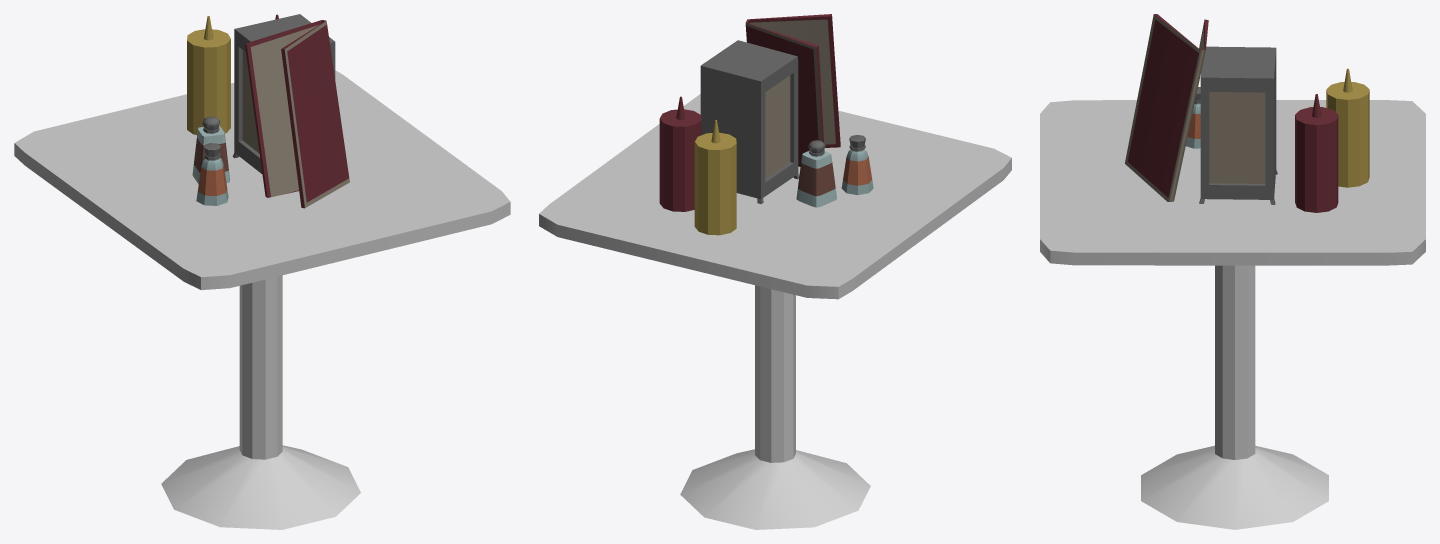
File: ConjuntoMesa.fbx
3 renders of one model, left to right at view 1: azimuth 30°, elevation 25°; view 2: azimuth 150°, elevation 25°; view 3: azimuth 270°, elevation 25°, orthographic. The views are drawn at different scales.
Parts seen in each view (by area): view 1: mesa, cardapio, Mostardaa, Guardanapo, sal, pimenta; view 2: mesa, Guardanapo, cardapio, Mostardaa, Kethup, pimenta, sal; view 3: mesa, Guardanapo, cardapio, Kethup, Mostardaa, sal.
Part boxes in pixels (box(x1,y1,x2,y2)): mesa: box(14, 70, 510, 529); cardapio: box(245, 20, 349, 208); Mostardaa: box(187, 16, 230, 134); Guardanapo: box(232, 14, 335, 174); sal: box(196, 143, 228, 205); pimenta: box(192, 116, 229, 183); mesa: box(539, 94, 1011, 529); Guardanapo: box(700, 40, 799, 204); cardapio: box(745, 14, 840, 166); Mostardaa: box(694, 120, 736, 235); Kethup: box(659, 96, 701, 211); pimenta: box(796, 140, 836, 207); sal: box(841, 135, 873, 195); mesa: box(1040, 100, 1425, 529); Guardanapo: box(1199, 46, 1277, 204); cardapio: box(1125, 14, 1208, 201); Kethup: box(1295, 94, 1338, 212); Mostardaa: box(1326, 68, 1369, 187); sal: box(1186, 87, 1200, 148).
Size of the model in its own units: 0.8244 by 1.17 by 0.8797.
